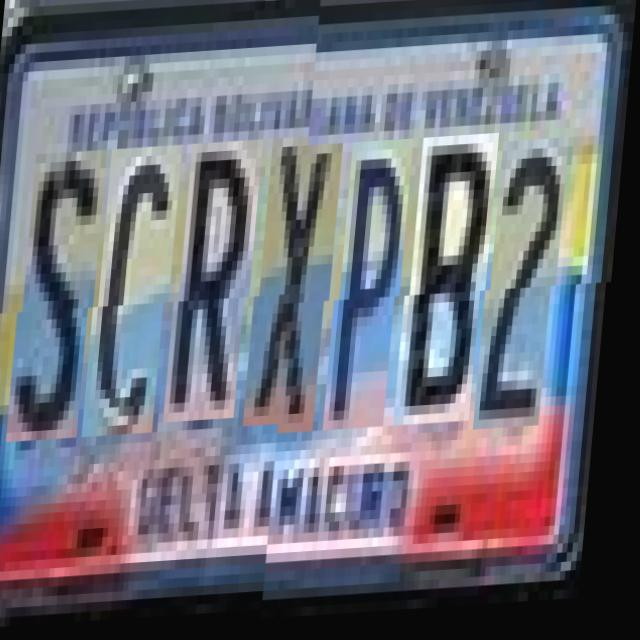2: (487, 146, 572, 437)
B: (407, 140, 502, 431)
C: (94, 156, 186, 448)
P: (336, 144, 417, 435)
R: (176, 153, 266, 434)
S: (19, 160, 110, 452)
X: (256, 148, 346, 439)
